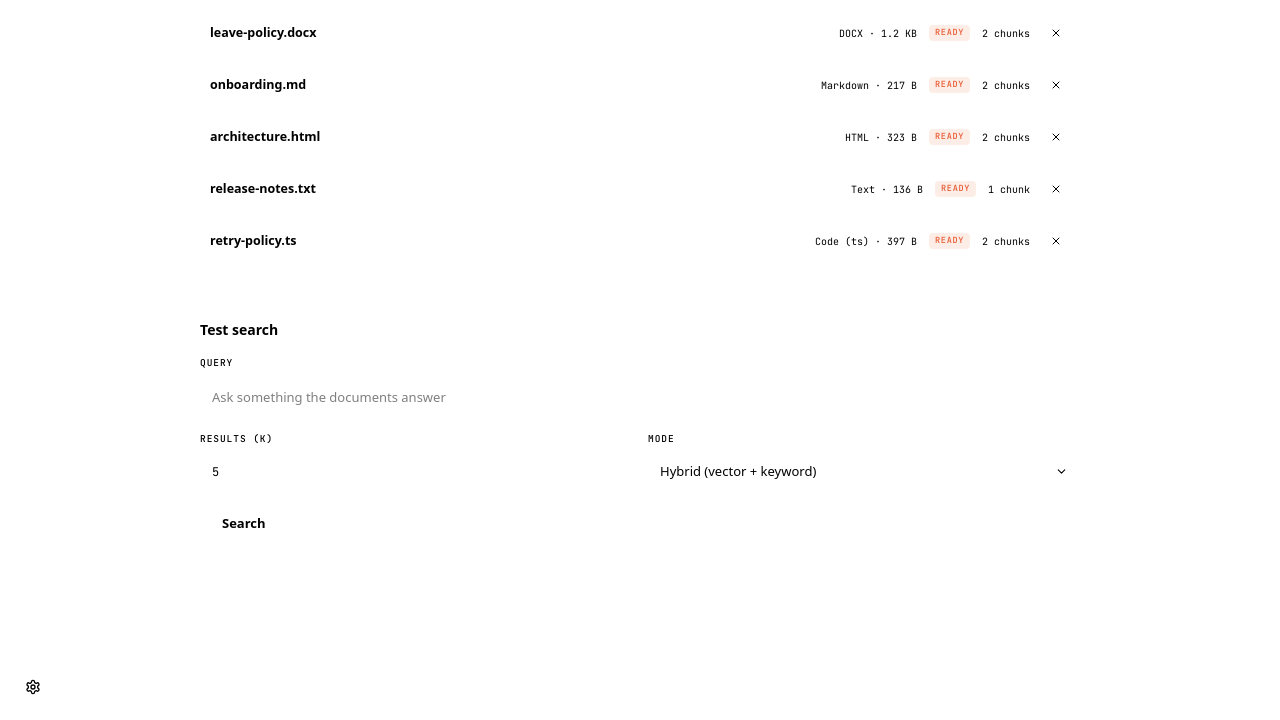
Scenario: FR-RAG-008 Test search panel › finds the leave-policy sentence from a paraphrase through vector search
This screenshot has width=1280, height=720.
(page scrolled)
Expected: the form is shown, [200,356,1080,541]
Type "how many vacation days does each worker get in a year" into the field labelled "Query" at (640, 396), box [200,378,1080,416]
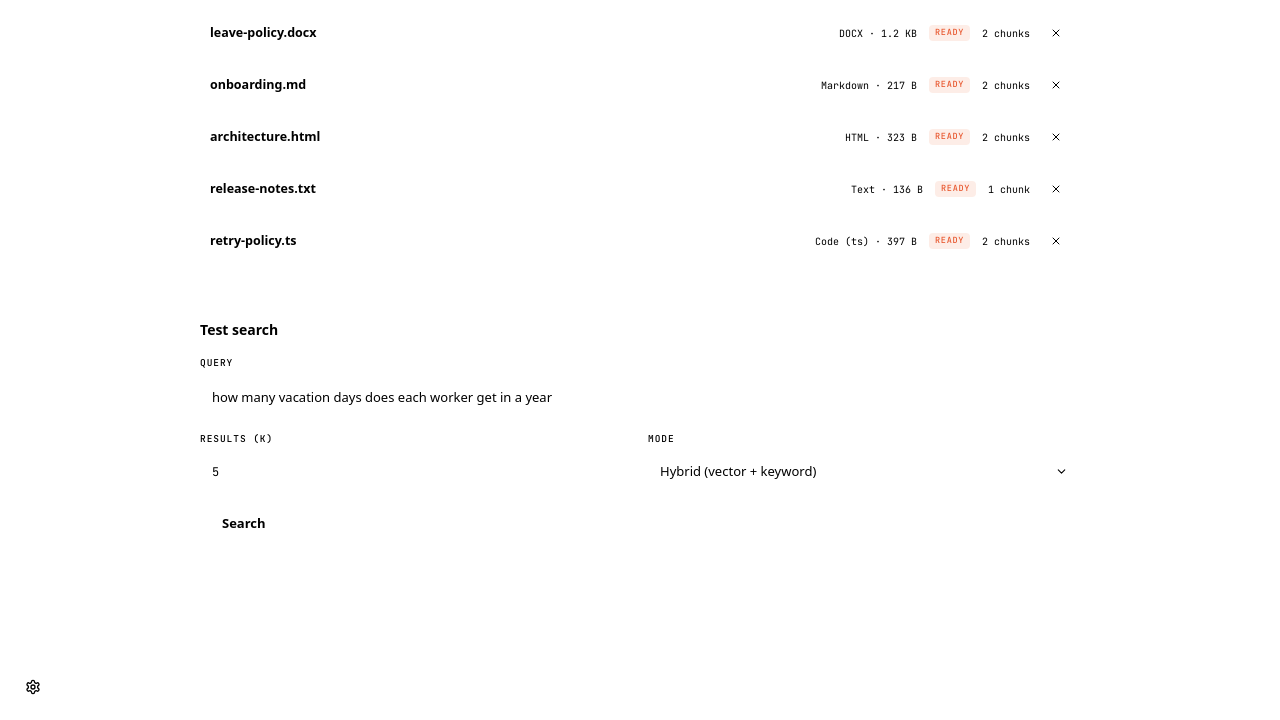
Replace the text in the number field labelled "Results (k)" with "3" at (416, 472), box [200,453,632,491]
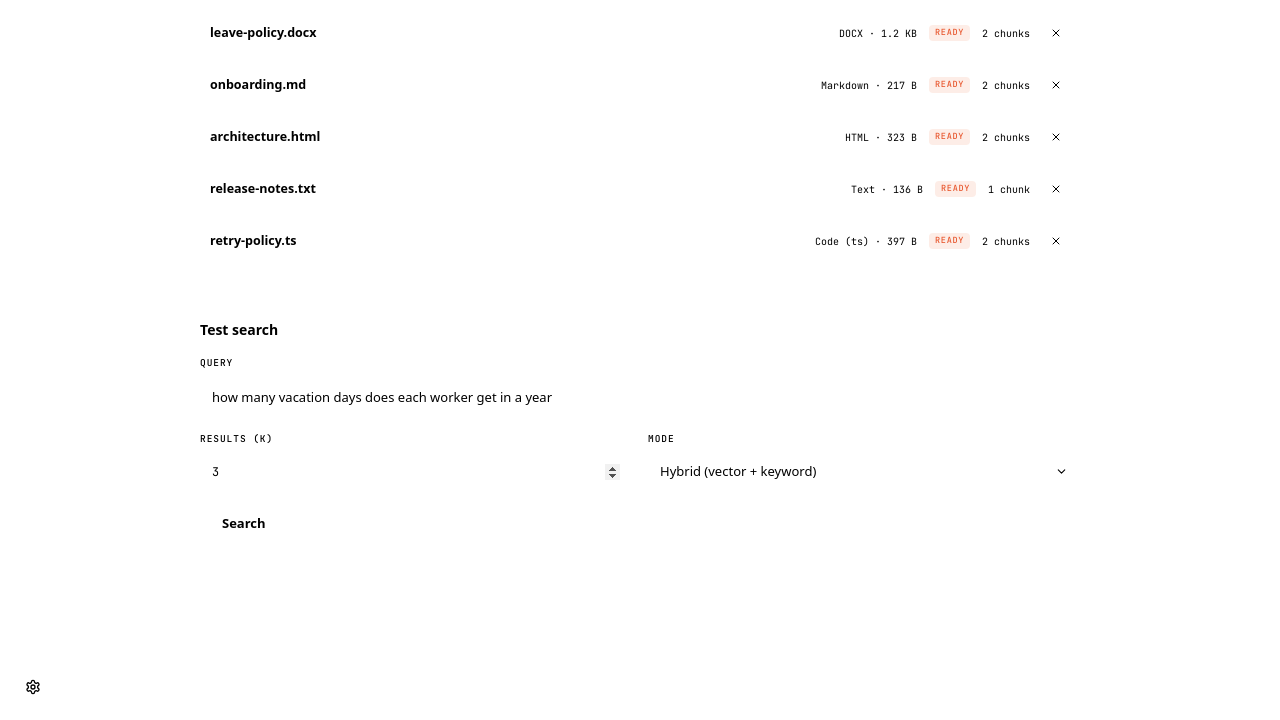
Click the dropdown named "Mode" at (738, 471), box [648,453,1080,491]
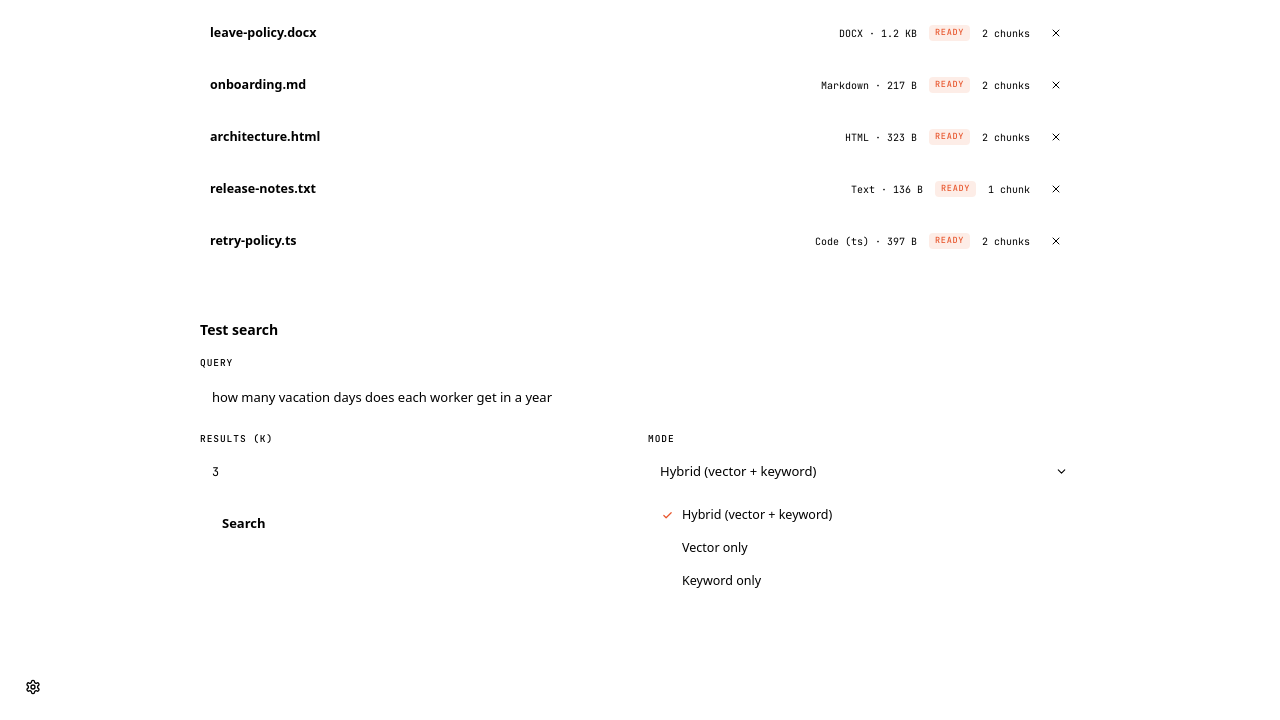
Click the option "Vector only" at (715, 547), box [682,539,748,556]
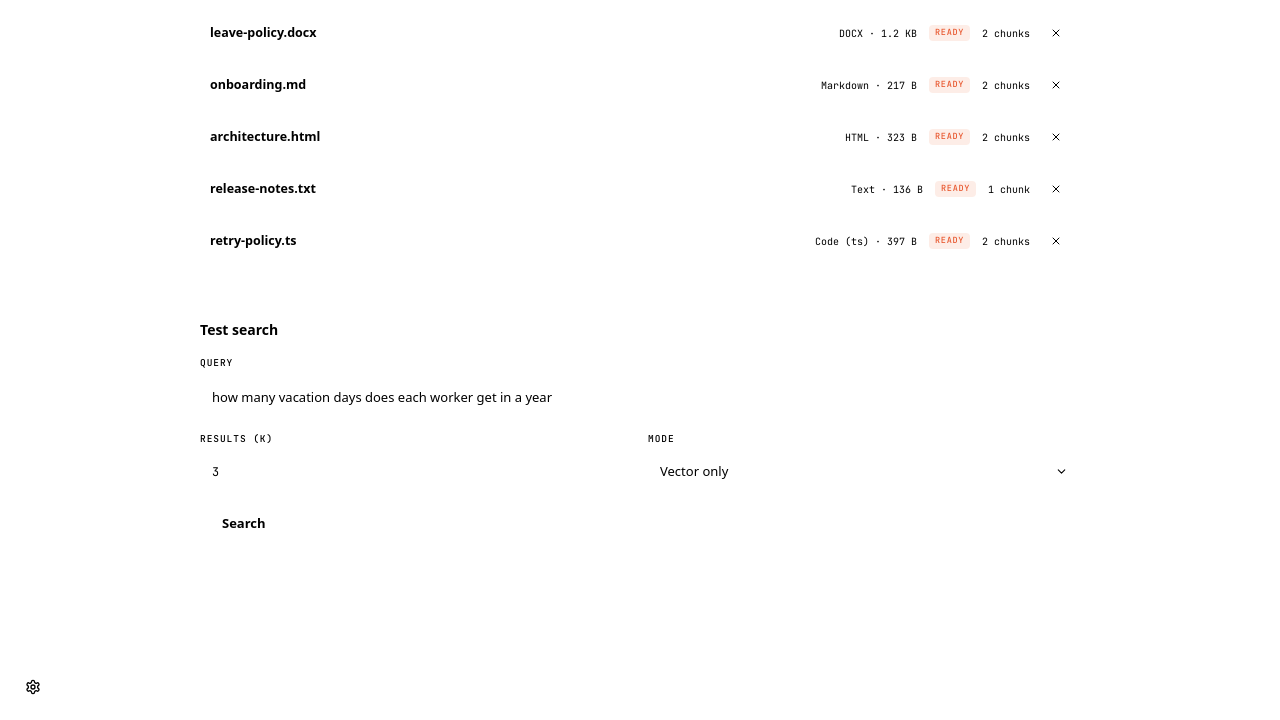
Click the button "Search" at (244, 524), box [200,507,288,541]
(page scrolled)
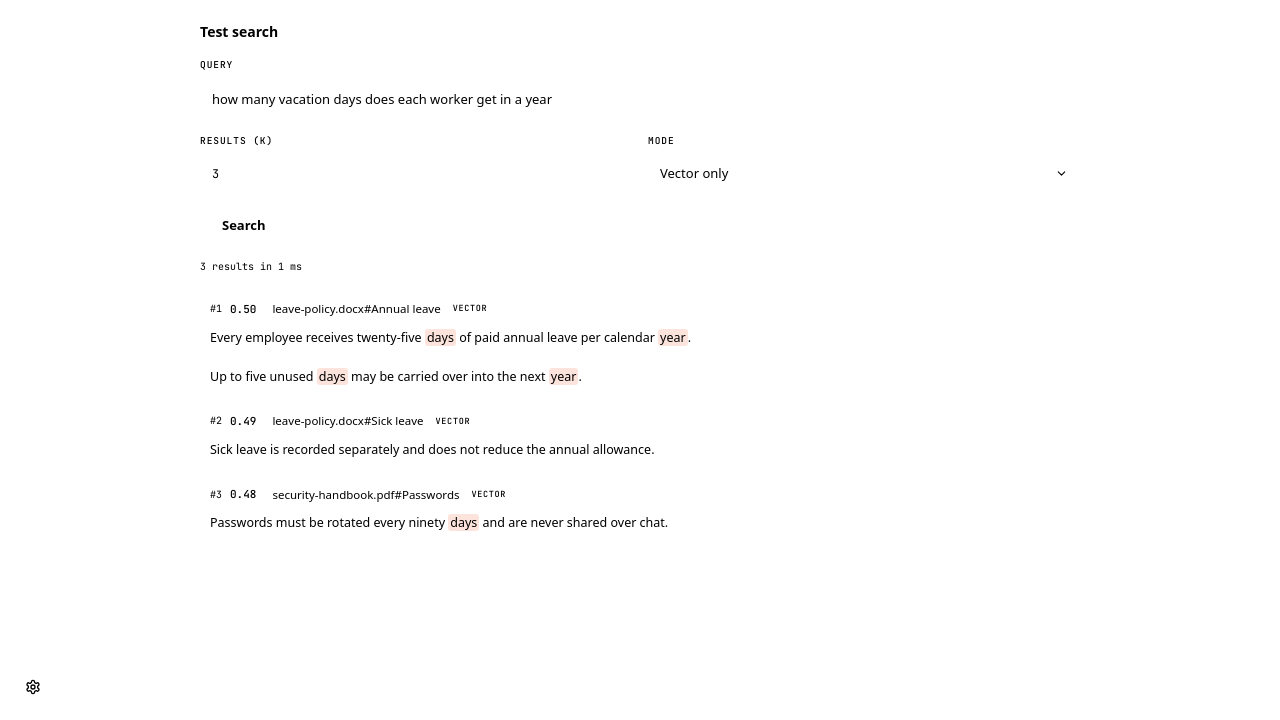
Result: the text with test id "source-via" next to "leave-policy.docx#Annual leave" reads "vector" at [453,302,487,314]
Result: the text "0.50" is shown at [230,300,256,317]
Result: the text "0.49" is shown at [230,413,256,429]
